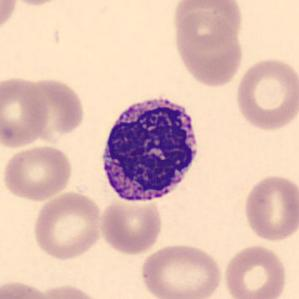Basophil: (93, 88, 206, 209)
RBC: (171, 10, 245, 89), (30, 189, 104, 261), (232, 55, 298, 133), (139, 241, 225, 299), (22, 75, 87, 144), (1, 143, 75, 203), (241, 172, 298, 244), (98, 195, 165, 256), (221, 242, 290, 299), (0, 75, 52, 150), (171, 0, 245, 49), (34, 282, 102, 299), (0, 278, 52, 298), (0, 0, 19, 37), (3, 0, 71, 7)
